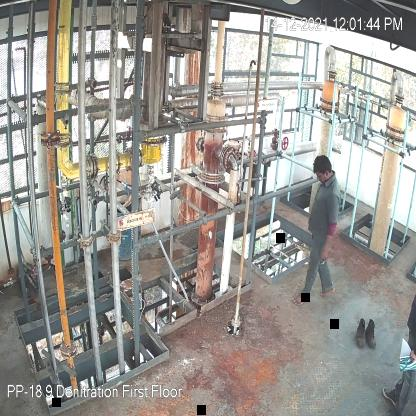no_shoes: (319, 287, 337, 300), (293, 291, 307, 306)
shoes: (354, 317, 369, 349), (366, 320, 378, 348)
